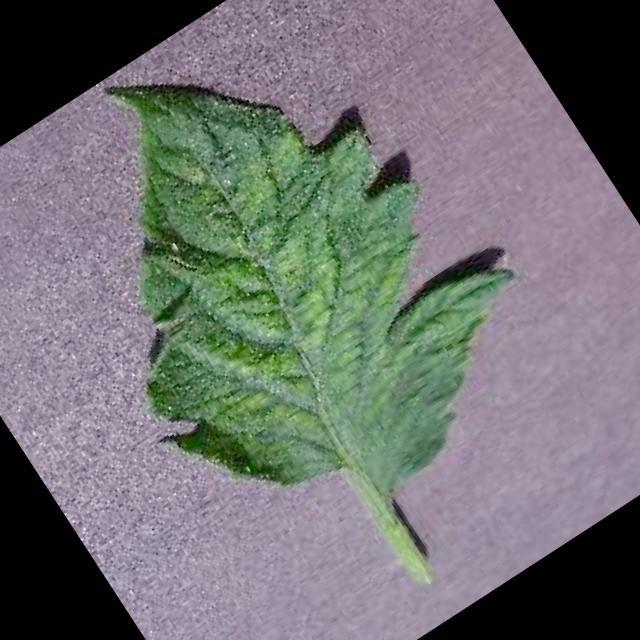Tomato mosaic virus leaf: (0, 0, 584, 585)
